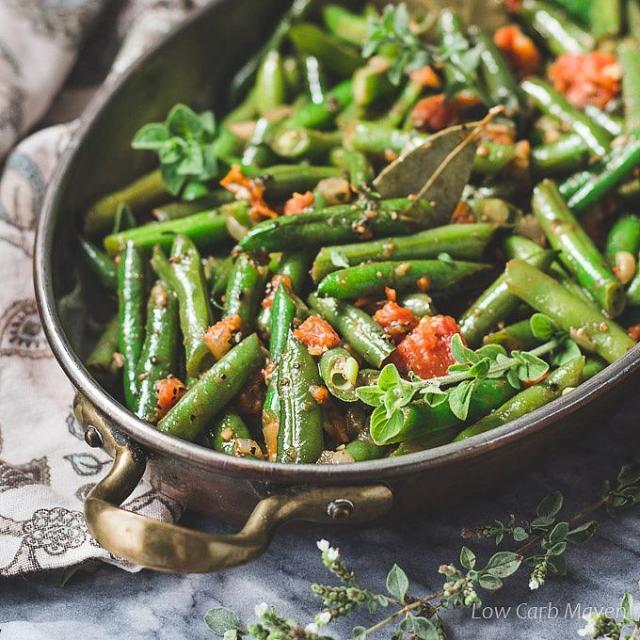Beans: (86, 0, 639, 450)
